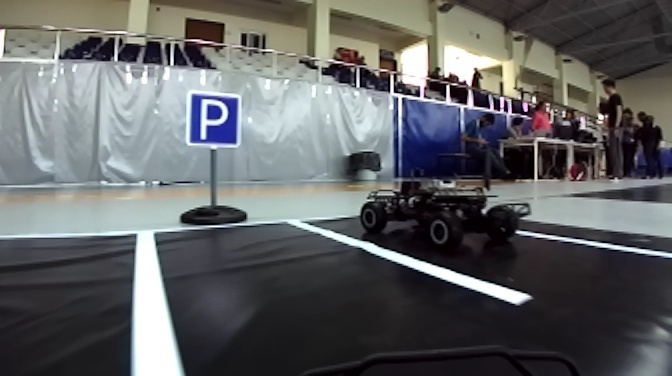park: (184, 89, 244, 150)
